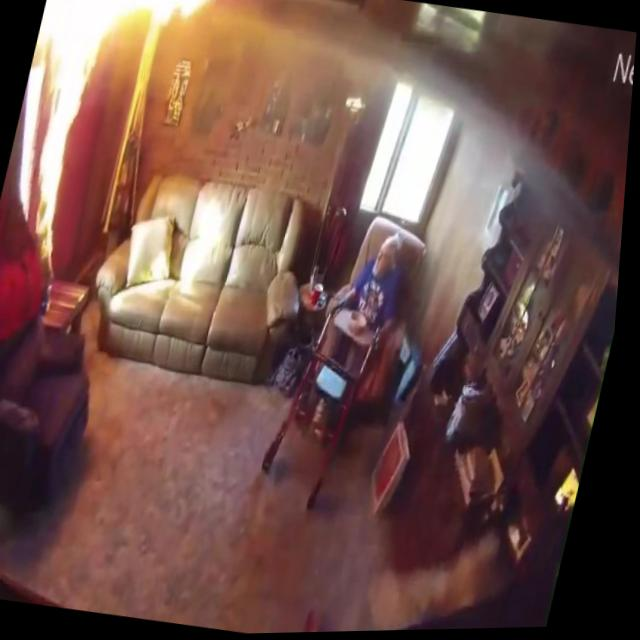fire: (10, 0, 119, 257), (40, 0, 218, 45)
